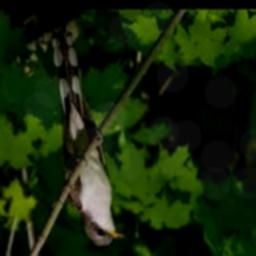Cuckoo: (50, 31, 124, 247)
